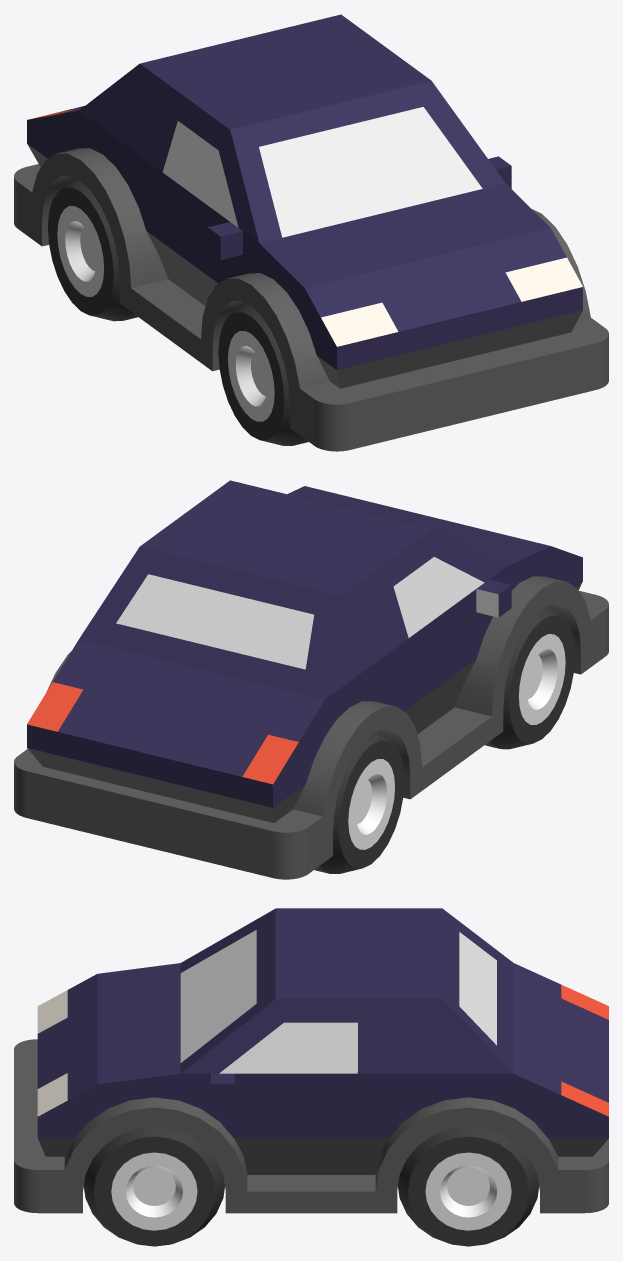
File: sedan_sports_bluegray.fbx
3 views of the same model, one above another, from view 1: azimuth 30°, elevation 25°; view 2: azimuth 150°, elevation 25°; view 3: azimuth 270°, elevation 25° (orthographic). The views are drawn at different scales.
Visible parts, largest first — view 1: sedanSports; view 2: sedanSports; view 3: sedanSports.
Boxes of the visible parts, bbox=[...] form: sedanSports: bbox=[14, 14, 608, 451]; sedanSports: bbox=[14, 480, 608, 879]; sedanSports: bbox=[14, 908, 608, 1246].
Size of the model in its own units: 9.75 by 8.25 by 18.75.
